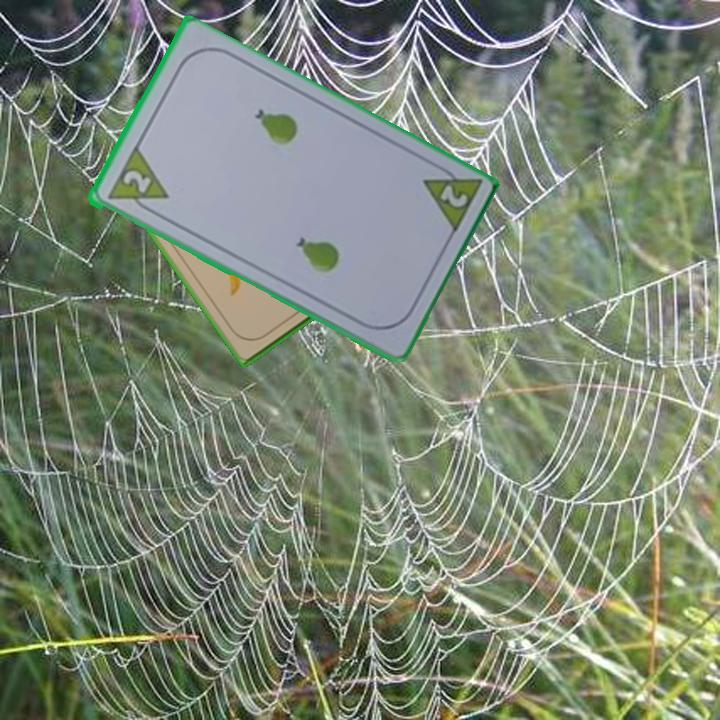2p: (118, 166, 154, 197), (435, 181, 470, 211)
